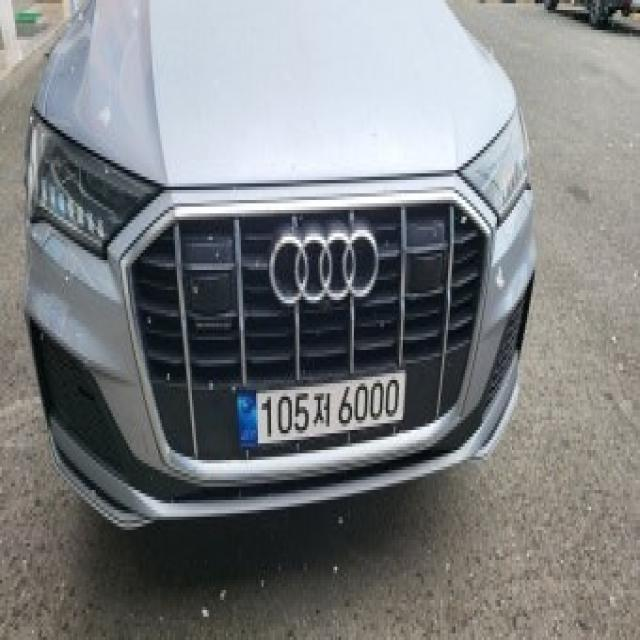car: (223, 353, 426, 462)
